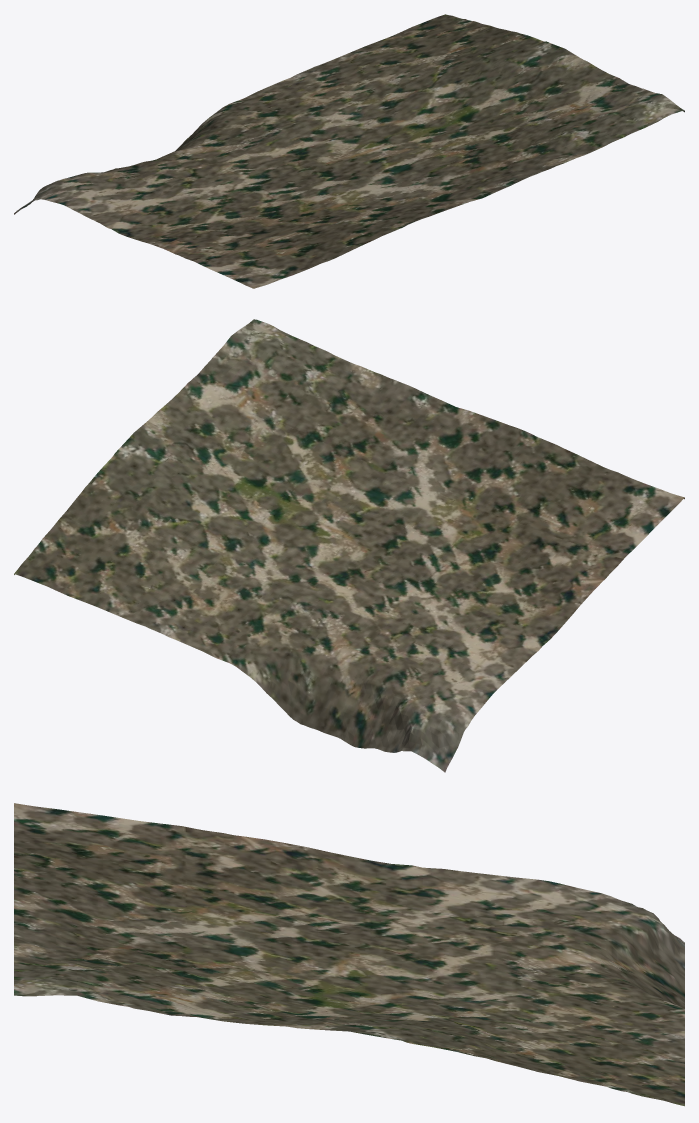
The picture shows the model from 3 angles, top to bottom: view 1: azimuth 30°, elevation 25°; view 2: azimuth 150°, elevation 25°; view 3: azimuth 270°, elevation 25°; orthographic projection. The views are drawn at different scales.
Size of the model in its own units: 250 by 96.92 by 241.
Materials: 1 (1 with a texture image).
